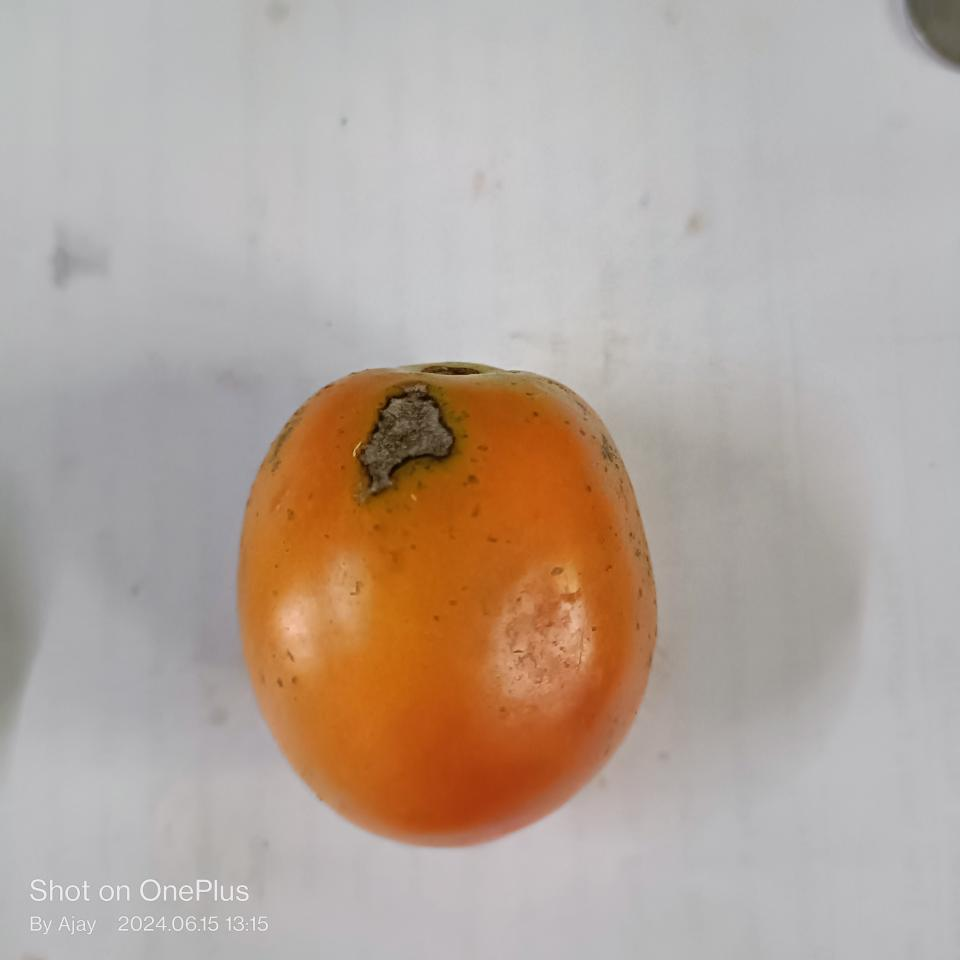Bacterial_Spot: (353, 380, 450, 506)
